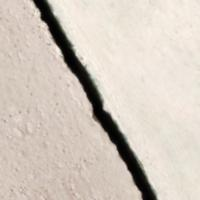crack: (22, 0, 157, 199)
